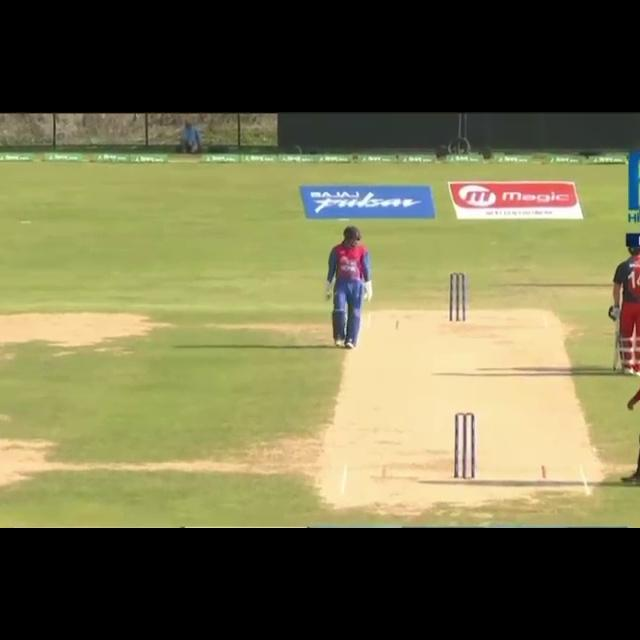umpire: (619, 323, 640, 492)
